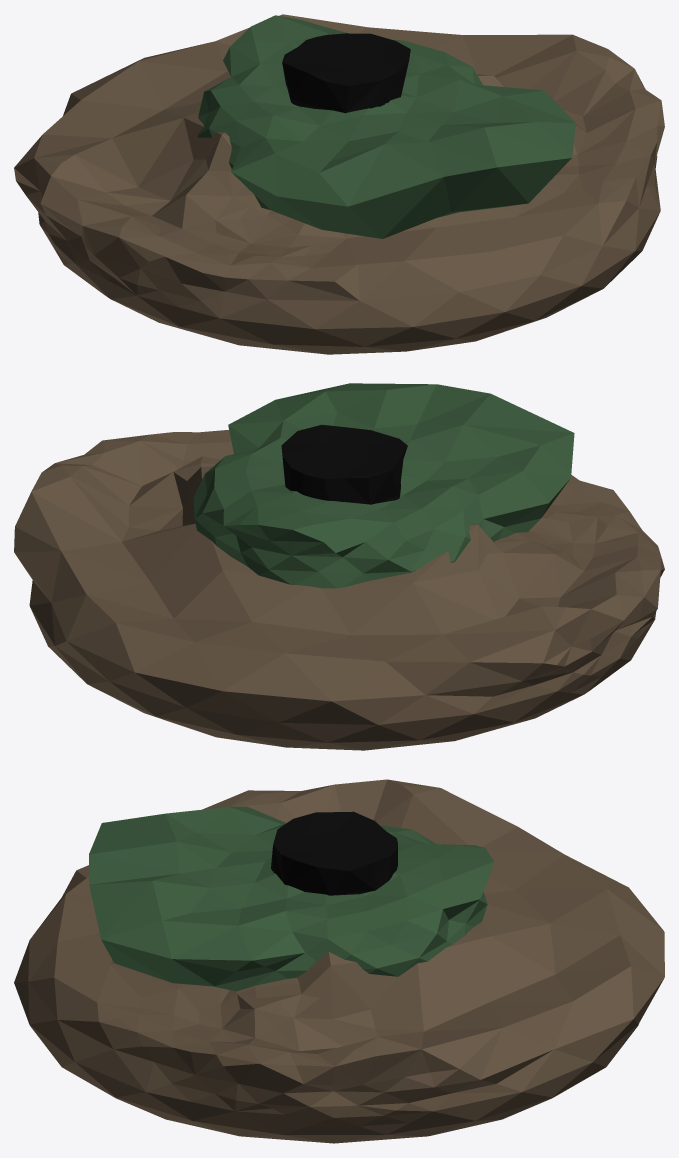
Rendered from cowboy.fbx.
3 renders of one model, top to bottom at view 1: azimuth 30°, elevation 25°; view 2: azimuth 150°, elevation 25°; view 3: azimuth 270°, elevation 25°, orthographic.
Visible parts, largest first — view 1: Icosphere, Icosphere.001, Cylinder; view 2: Icosphere, Icosphere.001, Cylinder; view 3: Icosphere, Icosphere.001, Cylinder.
Boxes of the visible parts, <box> form: Icosphere: <box>14,14,664,354</box>; Icosphere.001: <box>197,15,575,238</box>; Cylinder: <box>282,33,410,113</box>; Icosphere: <box>14,430,664,750</box>; Icosphere.001: <box>193,383,574,588</box>; Cylinder: <box>281,424,407,504</box>; Icosphere: <box>14,779,664,1143</box>; Icosphere.001: <box>89,806,494,991</box>; Cylinder: <box>271,811,397,895</box>.
Bounding box in the file's own units: 213 × 80.17 × 203.
